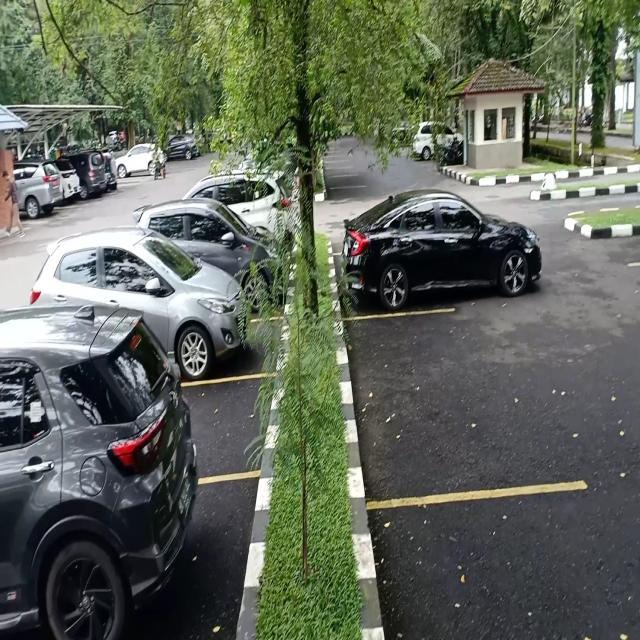empty: (359, 314, 573, 498), (188, 373, 267, 482)
occupied: (346, 206, 530, 324), (152, 270, 278, 383)
